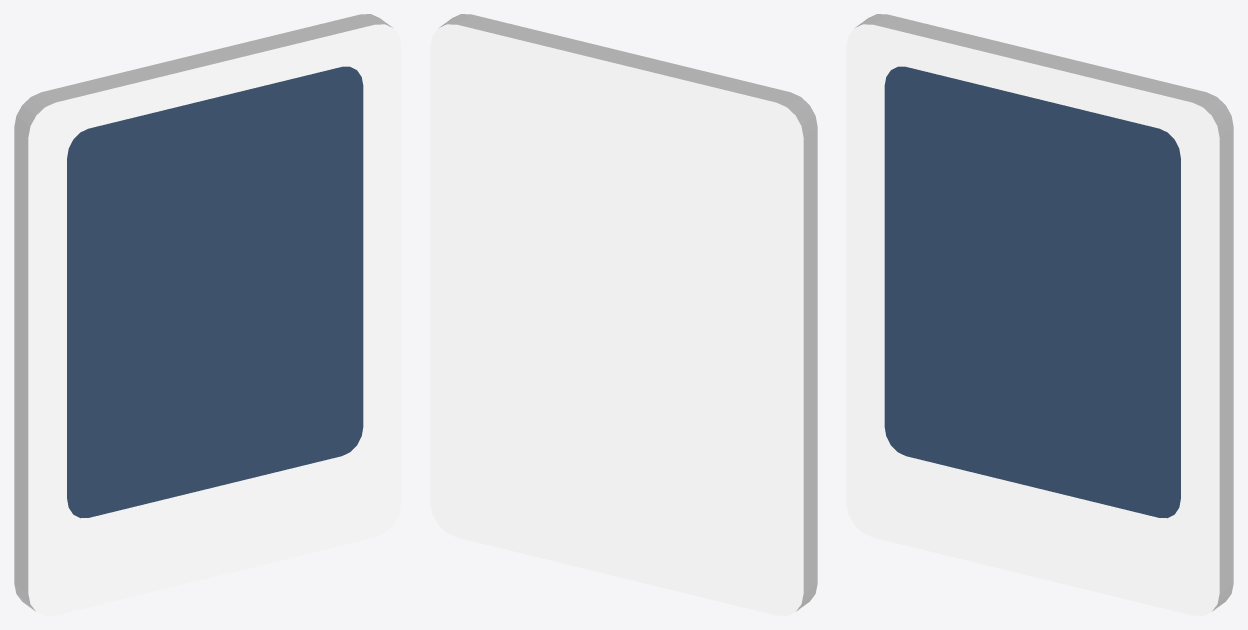
File: tabletIso.glb
3 renders of one model, left to right at view 1: azimuth 30°, elevation 25°; view 2: azimuth 150°, elevation 25°; view 3: azimuth 330°, elevation 25°, orthographic.
Visible parts, largest first — view 1: Cube.001; view 2: Cube.001; view 3: Cube.001.
Boxes of the visible parts, x1,y1,x2,y2 form: Cube.001: (14,14,401,615); Cube.001: (430,14,817,615); Cube.001: (846,14,1233,615).
Bounding box in the file's own units: 1.19 × 1.56 × 0.079.
